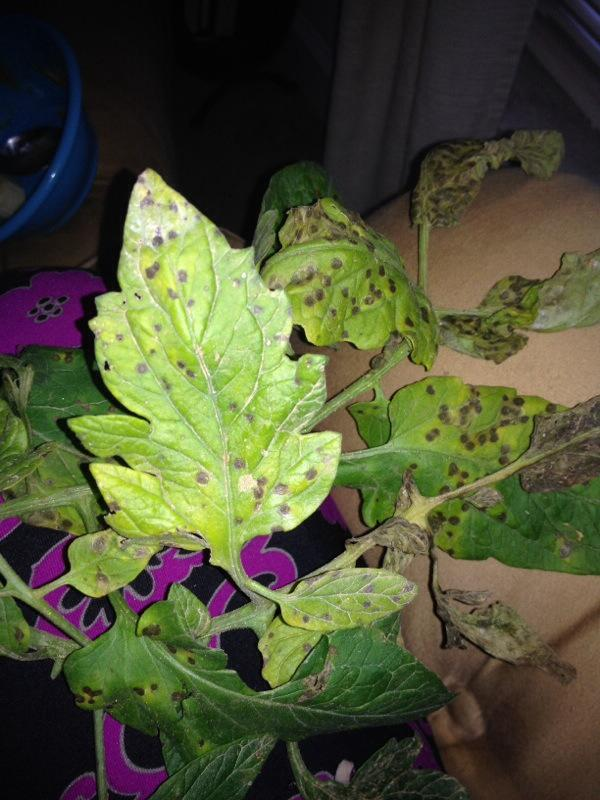Tomato Septoria leaf spot: (69, 156, 336, 560), (33, 602, 453, 749), (244, 197, 457, 369), (375, 375, 551, 503), (267, 553, 450, 632), (45, 523, 163, 595)
